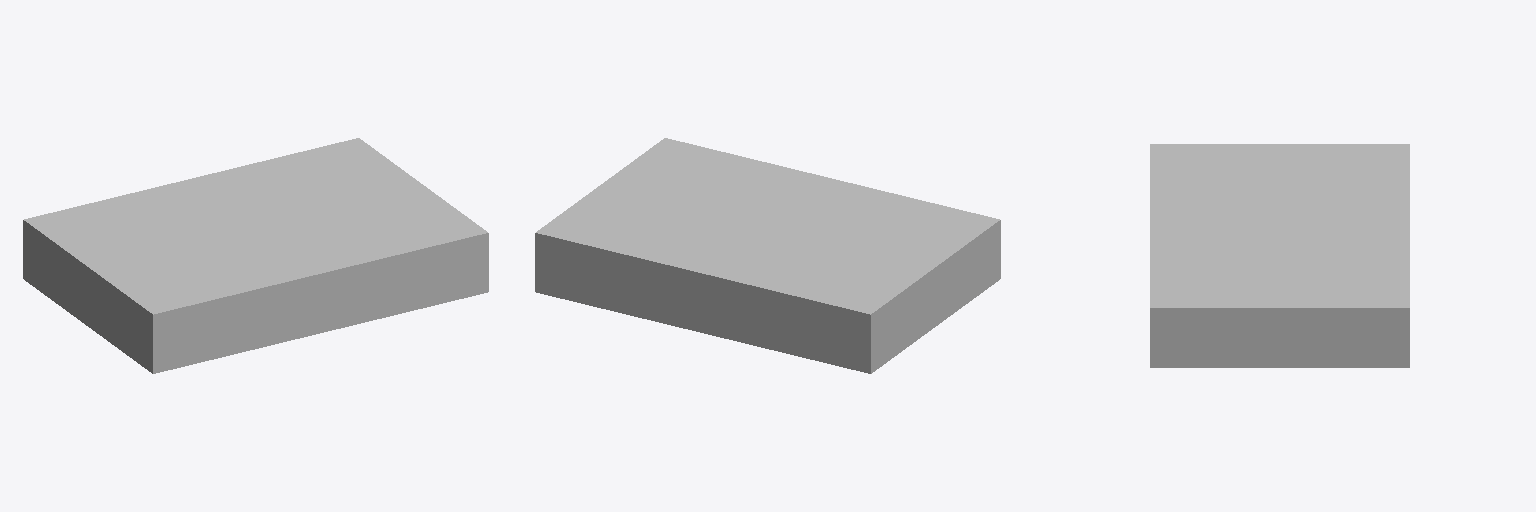
Rendered from four-flag.obj.
The picture shows the model from 3 angles: view 1: azimuth 30°, elevation 25°; view 2: azimuth 150°, elevation 25°; view 3: azimuth 270°, elevation 25°; orthographic projection.
Parts seen in each view (by area): view 1: entity0_brush1, entity0_brush5, entity0_brush4; view 2: entity0_brush1, entity0_brush0, entity0_brush4; view 3: entity0_brush1, entity0_brush2.
Part boxes in pixels (left/top/right/bottom): entity0_brush1: left=24, top=138, right=488, bottom=315; entity0_brush5: left=152, top=234, right=488, bottom=373; entity0_brush4: left=23, top=219, right=154, bottom=373; entity0_brush1: left=536, top=138, right=998, bottom=315; entity0_brush0: left=535, top=234, right=871, bottom=373; entity0_brush4: left=869, top=219, right=1000, bottom=372; entity0_brush1: left=1150, top=144, right=1409, bottom=309; entity0_brush2: left=1150, top=307, right=1409, bottom=367.
Bounding box in the file's own units: 13952 × 2368 × 9344.